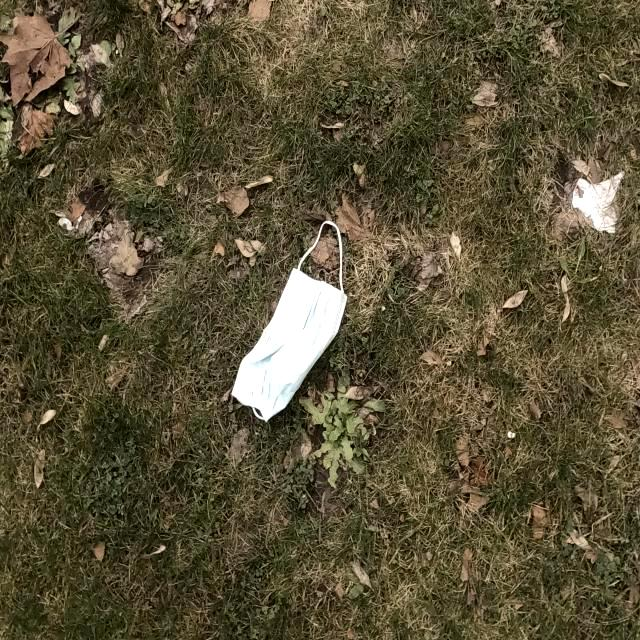Mask: (229, 217, 349, 423)
